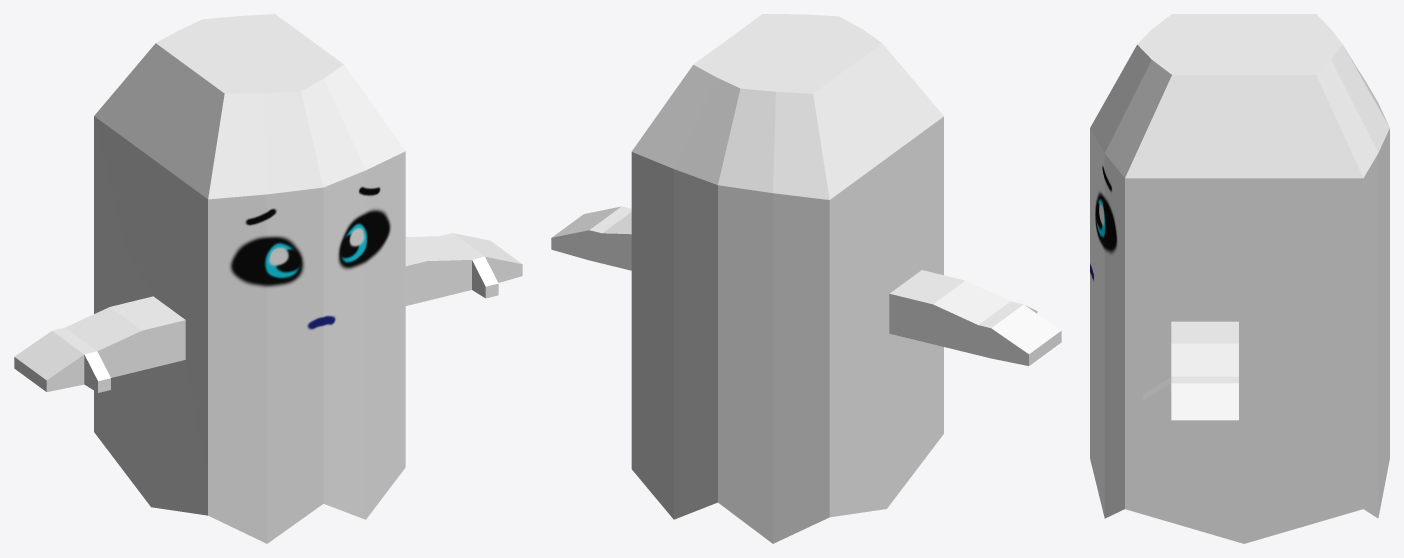
Rendered from Mostly Ghostly Character.fbx.
3 renders of one model, left to right at view 1: azimuth 30°, elevation 25°; view 2: azimuth 150°, elevation 25°; view 3: azimuth 270°, elevation 25°, orthographic. The views are drawn at different scales.
Visible parts, largest first — view 1: Mostly Ghostly; view 2: Mostly Ghostly; view 3: Mostly Ghostly.
Boxes of the visible parts, <box> form: Mostly Ghostly: <box>14,14,522,543</box>; Mostly Ghostly: <box>551,14,1061,543</box>; Mostly Ghostly: <box>1090,14,1389,543</box>.
Bounding box in the file's own units: 352 × 303 × 183.
1 material, 1 textured.
